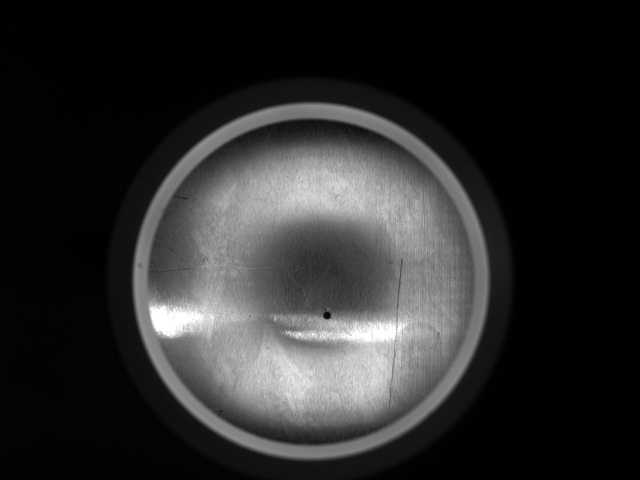ca_shang: (142, 246, 314, 280), (384, 255, 404, 411)
zhen_kong: (320, 308, 336, 320)
